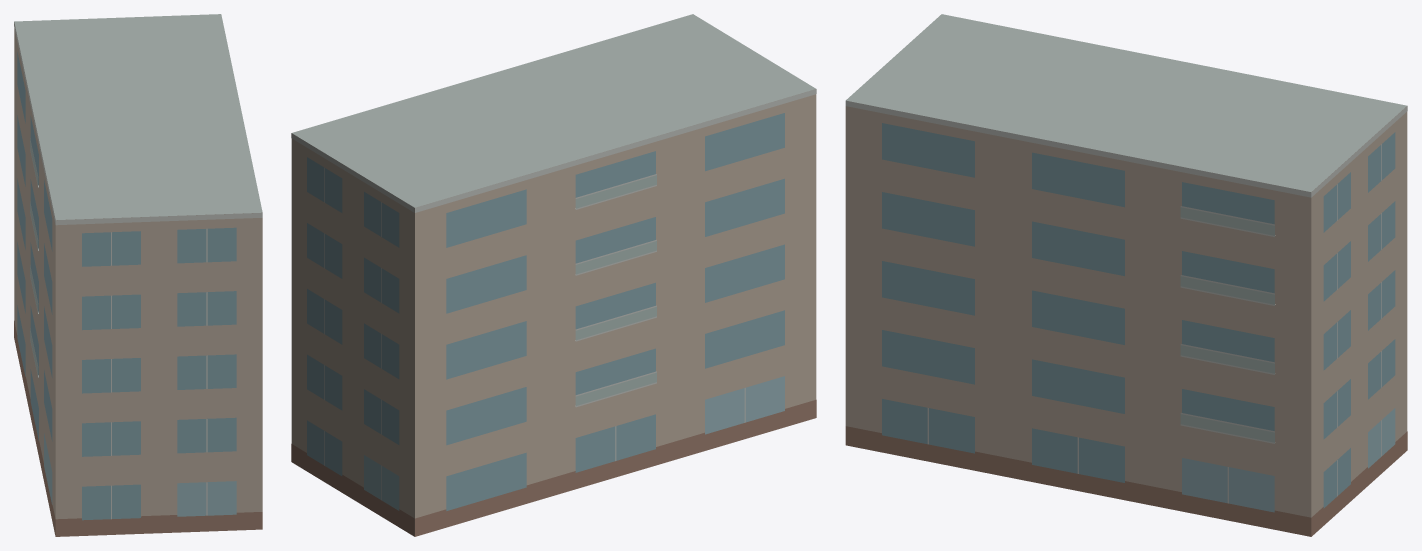
File: survey-upis-32636434.glb
The picture shows the model from 3 angles, left to right: view 1: azimuth 30°, elevation 25°; view 2: azimuth 150°, elevation 25°; view 3: azimuth 270°, elevation 25°; orthographic projection. The views are drawn at different scales.
Parts seen in each view (by area): view 1: survey-upis-32636434.tmp; view 2: survey-upis-32636434.tmp; view 3: survey-upis-32636434.tmp.
Part boxes in pixels (x1,y1,x2,y2): survey-upis-32636434.tmp: (14, 14, 262, 536); survey-upis-32636434.tmp: (291, 14, 816, 536); survey-upis-32636434.tmp: (845, 14, 1407, 536).
Size of the model in its own units: 16.91 by 15.25 by 22.54.
